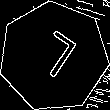L_SW: (27, 27, 81, 86)
